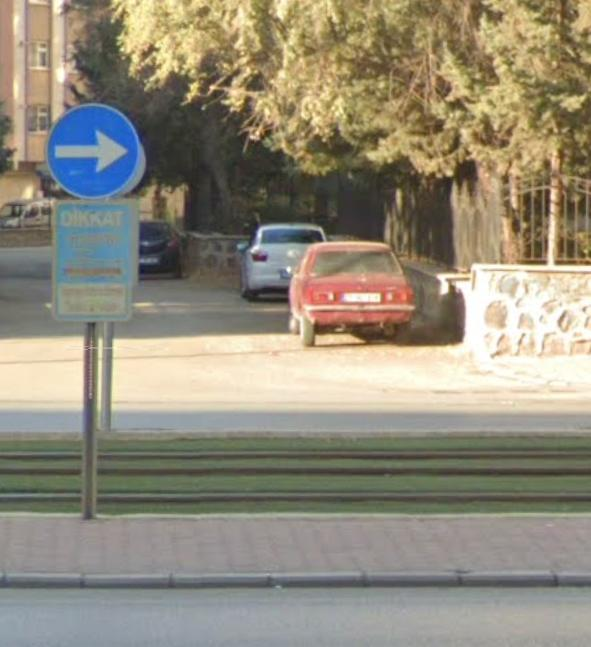turnright: (50, 105, 137, 190)
